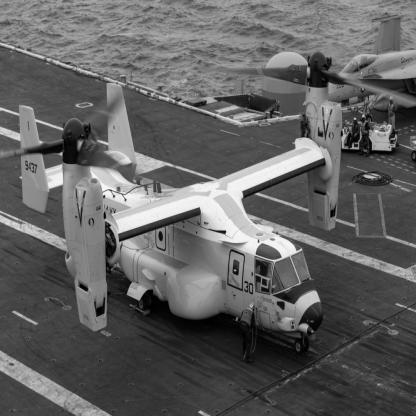F18: (304, 14, 416, 124)
V22: (2, 46, 416, 355)
